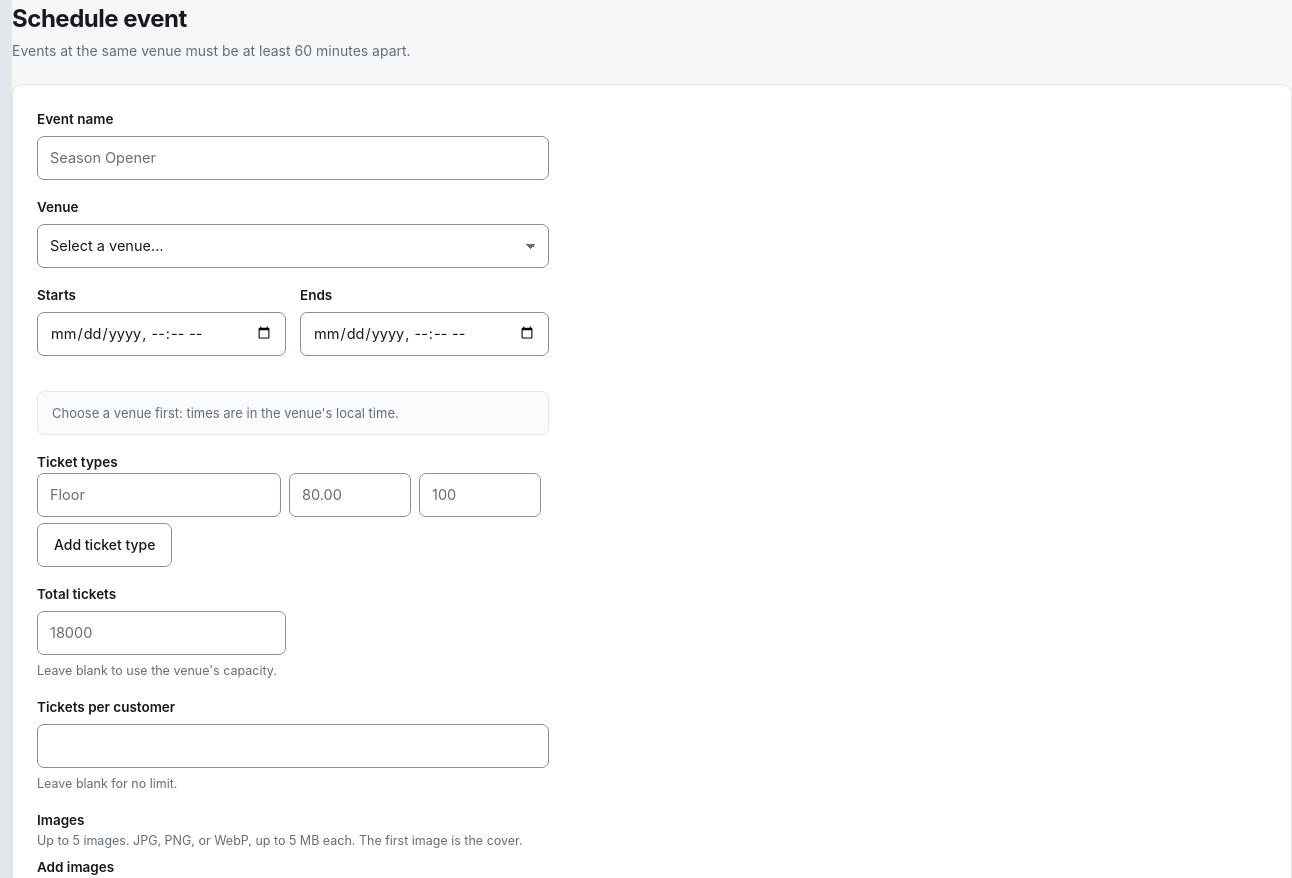
the zone line (FR-014) › asks for a venue first, then names its zone with the abbreviation in force on the typed date
Expected: the text with test id "zone-line" reads "Choose a venue first: times are in the venue's local time.", [52,405,399,421]
Select "Riverside (22,090 seats)" in the dropdown labelled "Venue": (293, 246) [37,224,549,268]
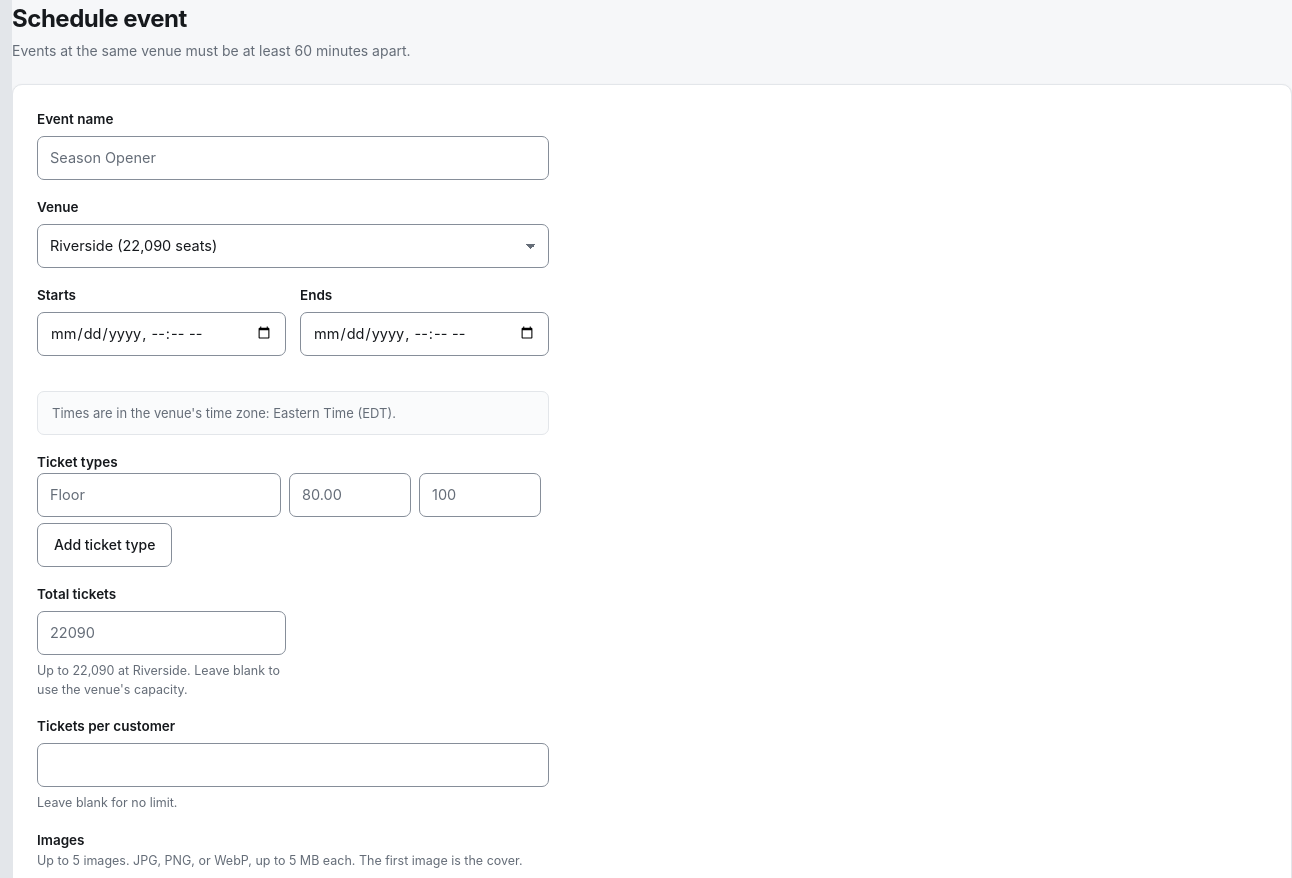
In the field labelled "Starts": (162, 334) [37,312,286,356], type "2026-10-01T19:00"
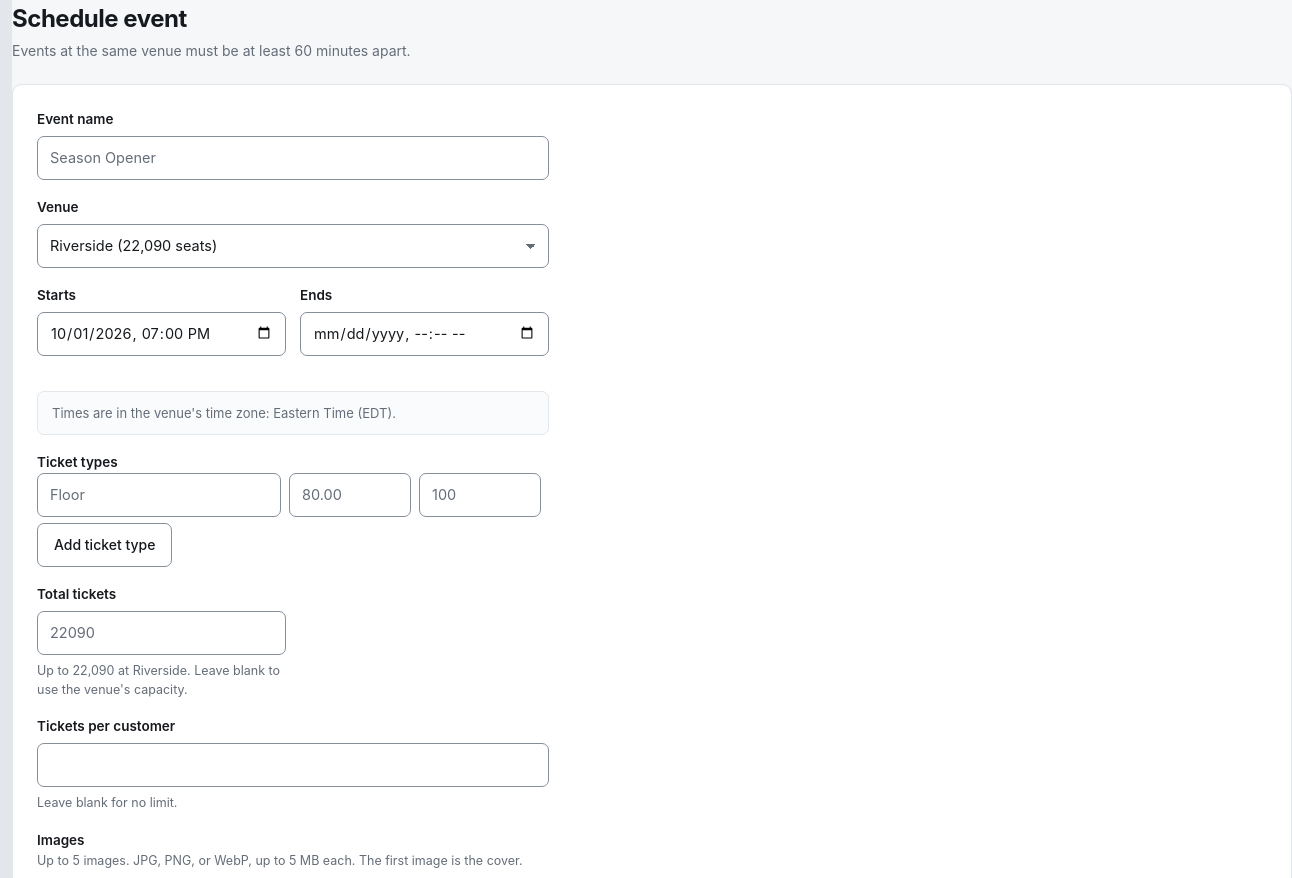
Now the text with test id "zone-line" reads "Times are in the venue's time zone: Eastern Time (EDT).", box [52,405,396,421]
Replace the text in the field labelled "Starts" with "2026-12-05T20:00": (162, 334) [37,312,286,356]
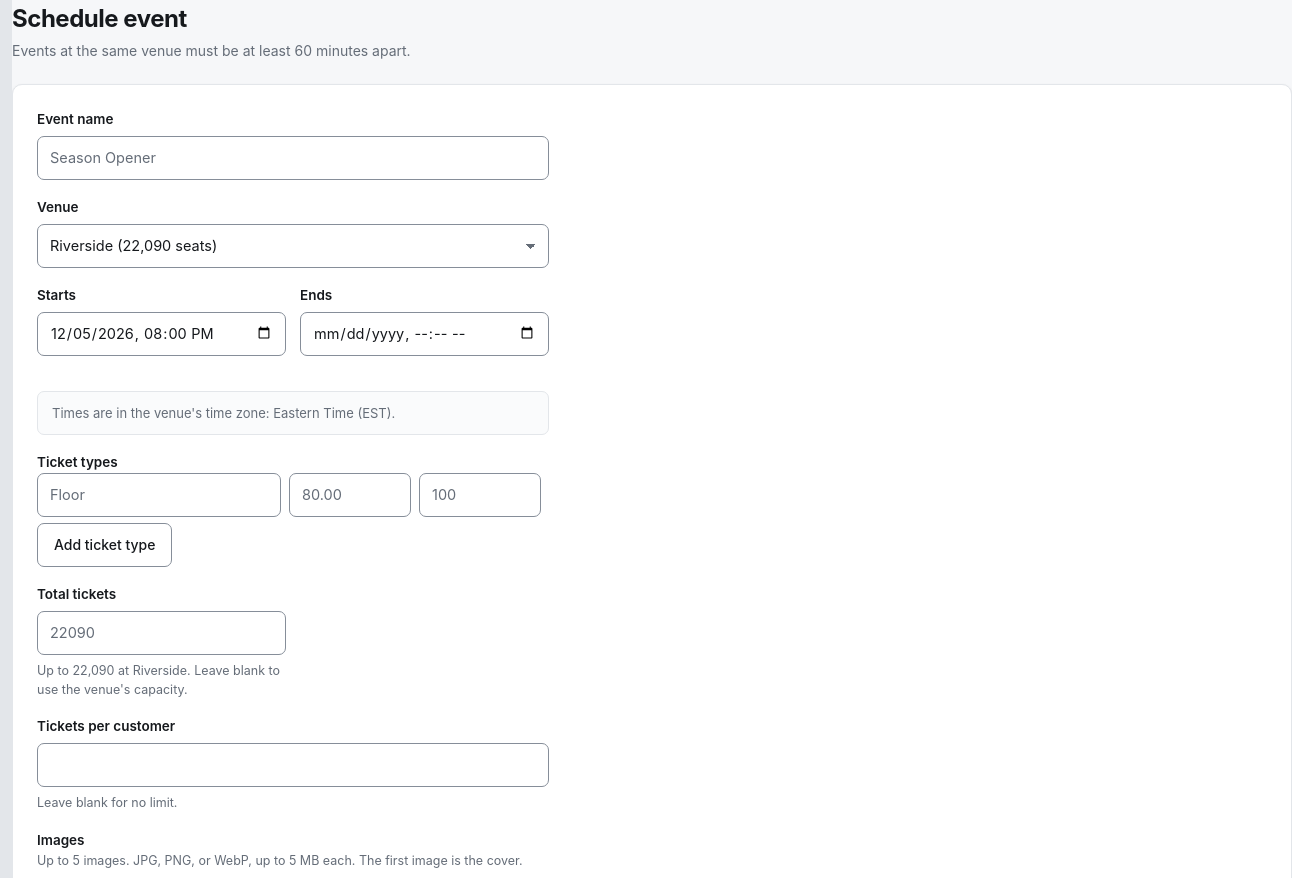
Now the text with test id "zone-line" reads "Times are in the venue's time zone: Eastern Time (EST).", box [52,405,395,421]
